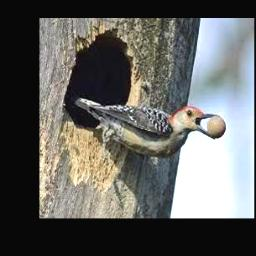Woodpecker: (75, 96, 220, 158)
